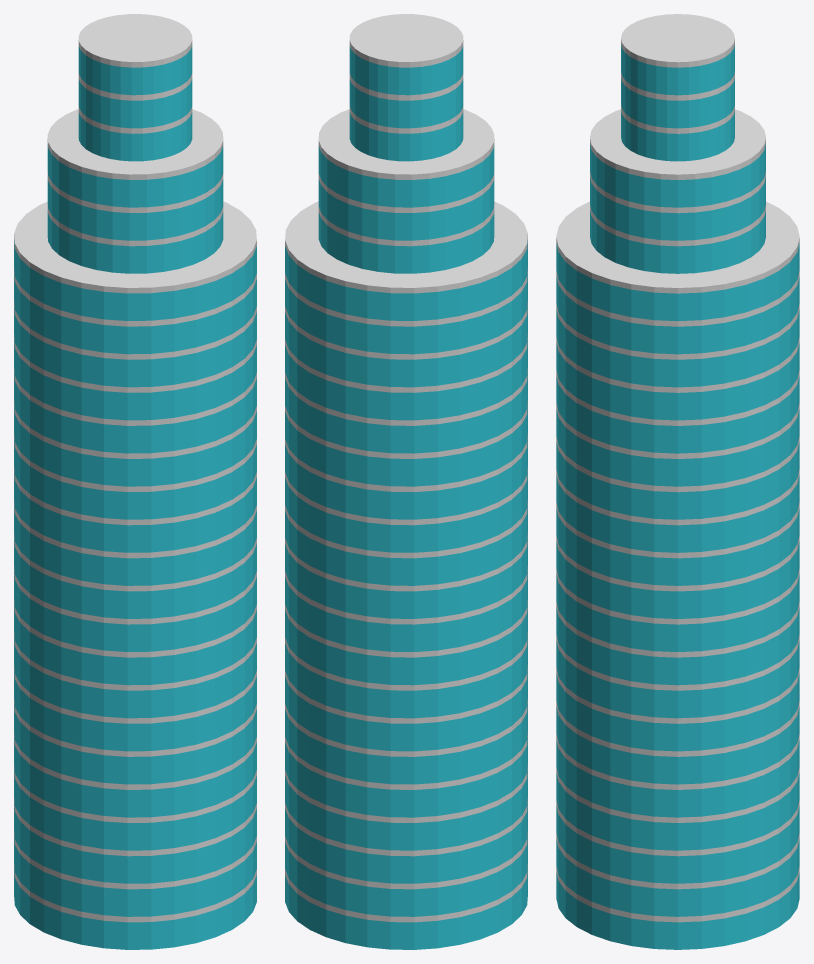
Rendered from backgroundbuilding1.fbx.
3 views of the same model, side by side, from view 1: azimuth 30°, elevation 25°; view 2: azimuth 150°, elevation 25°; view 3: azimuth 270°, elevation 25° (orthographic).
Parts seen in each view (by area): view 1: Cylinder; view 2: Cylinder; view 3: Cylinder.
Boxes of the visible parts, x1,y1,x2,y2 form: Cylinder: (14,14,256,949); Cylinder: (285,14,527,949); Cylinder: (556,14,799,949).
Bounding box in the file's own units: 2000 × 7800 × 2000.
